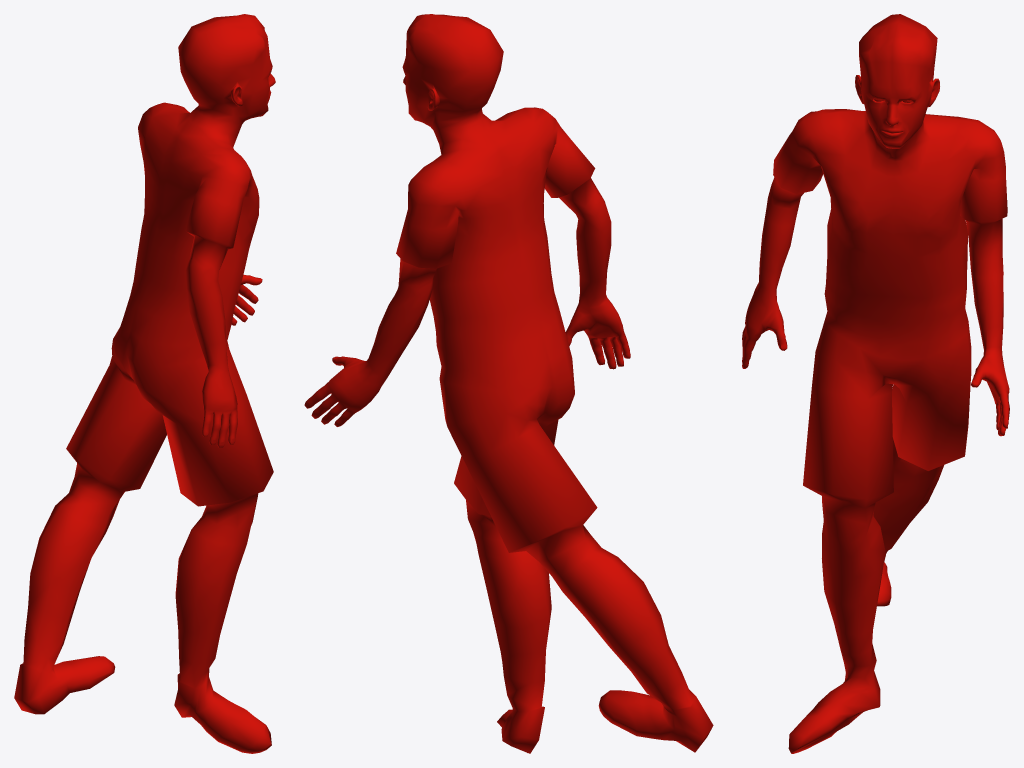
Rendered from player_000039.obj.
3 renders of one model, left to right at view 1: azimuth 30°, elevation 25°; view 2: azimuth 150°, elevation 25°; view 3: azimuth 270°, elevation 25°, orthographic. The views are drawn at different scales.
Parts seen in each view (by area): view 1: soccerplayer.002_mesh.003; view 2: soccerplayer.002_mesh.003; view 3: soccerplayer.002_mesh.003.
Part boxes in pixels (<box>): soccerplayer.002_mesh.003: <box>14,14,275,753</box>; soccerplayer.002_mesh.003: <box>304,14,713,753</box>; soccerplayer.002_mesh.003: <box>742,14,1009,753</box>.
Bounding box in the file's own units: 1.37 × 2.99 × 0.9827.
